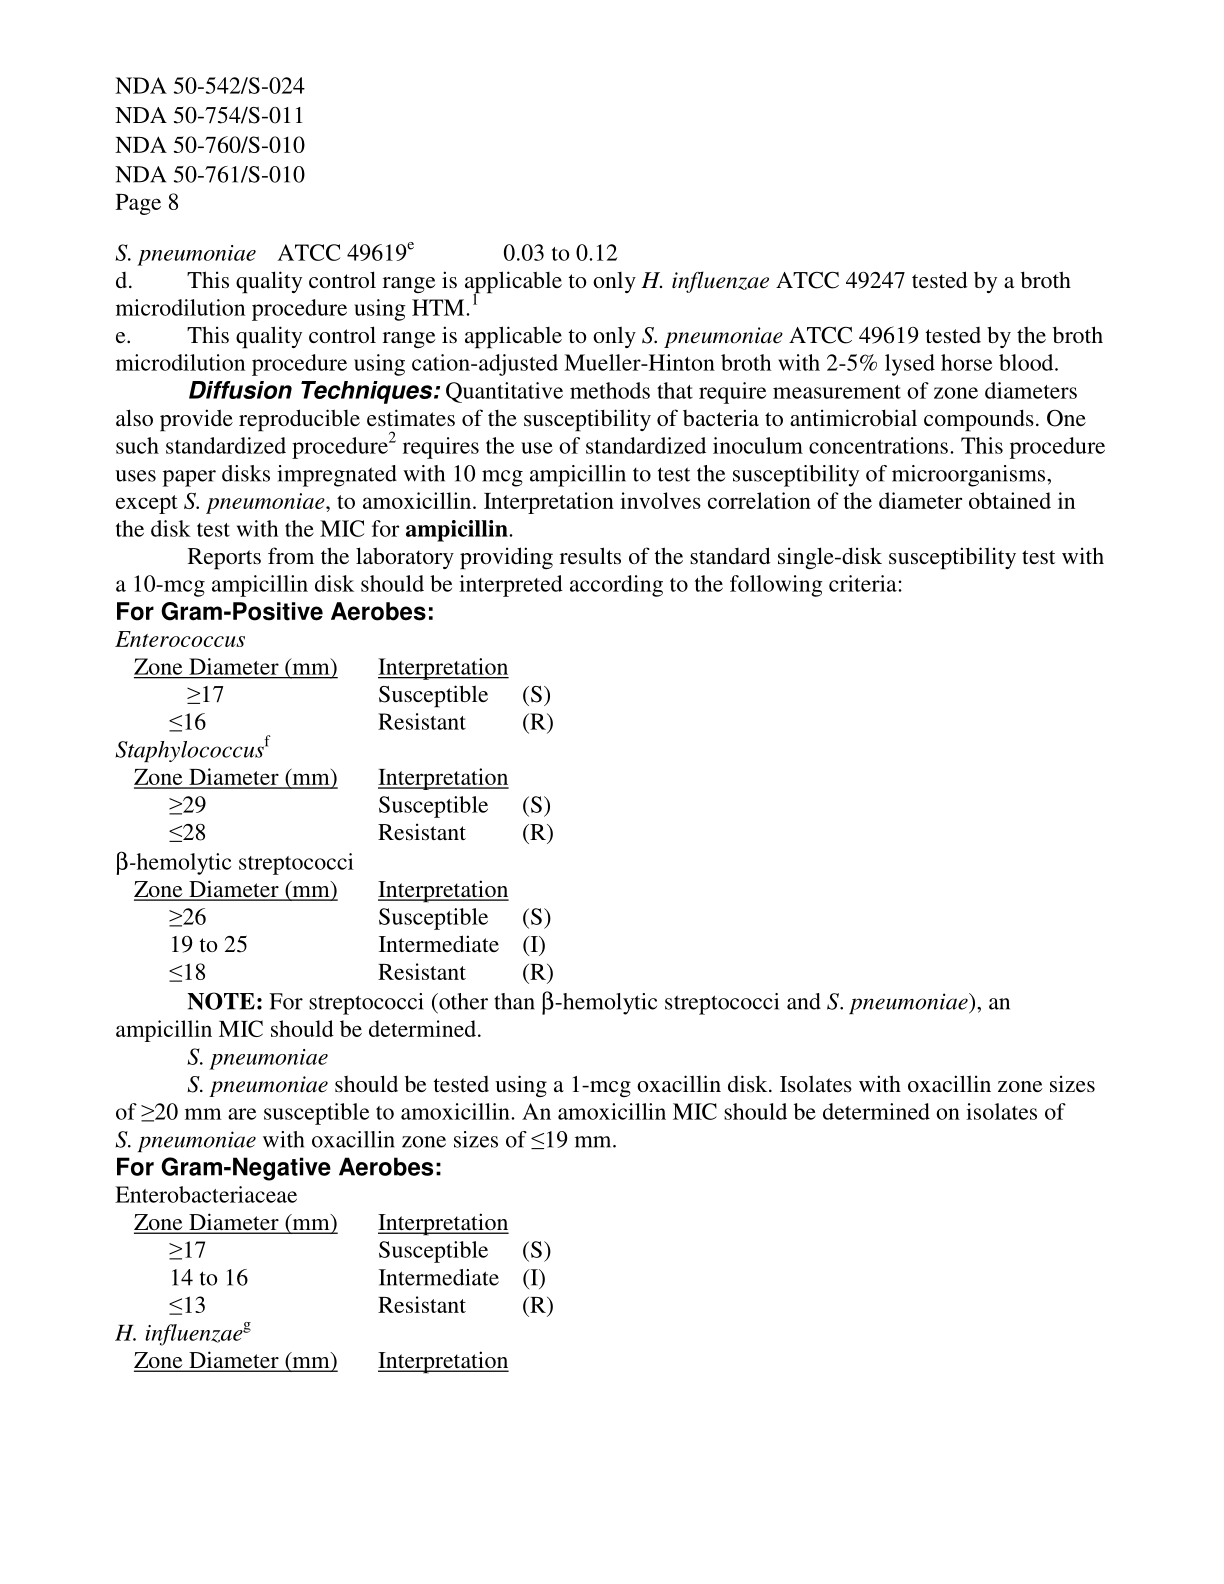nolines: (113, 649, 555, 991), (108, 1209, 557, 1374)
